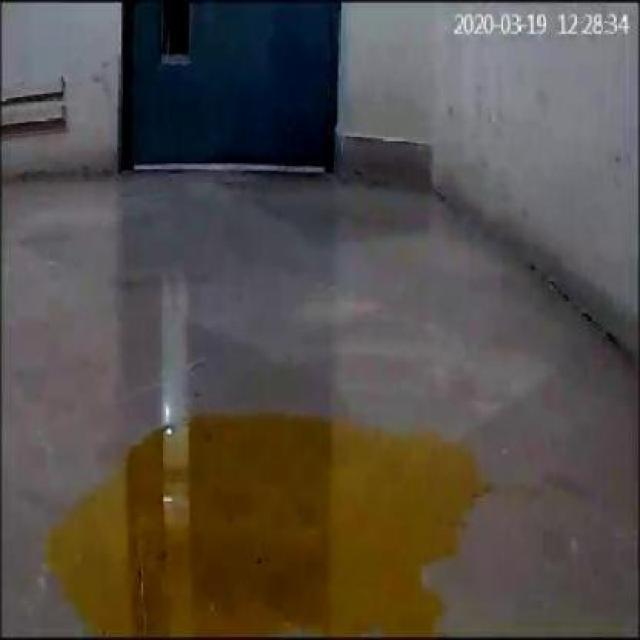spillage: (47, 416, 482, 638)
